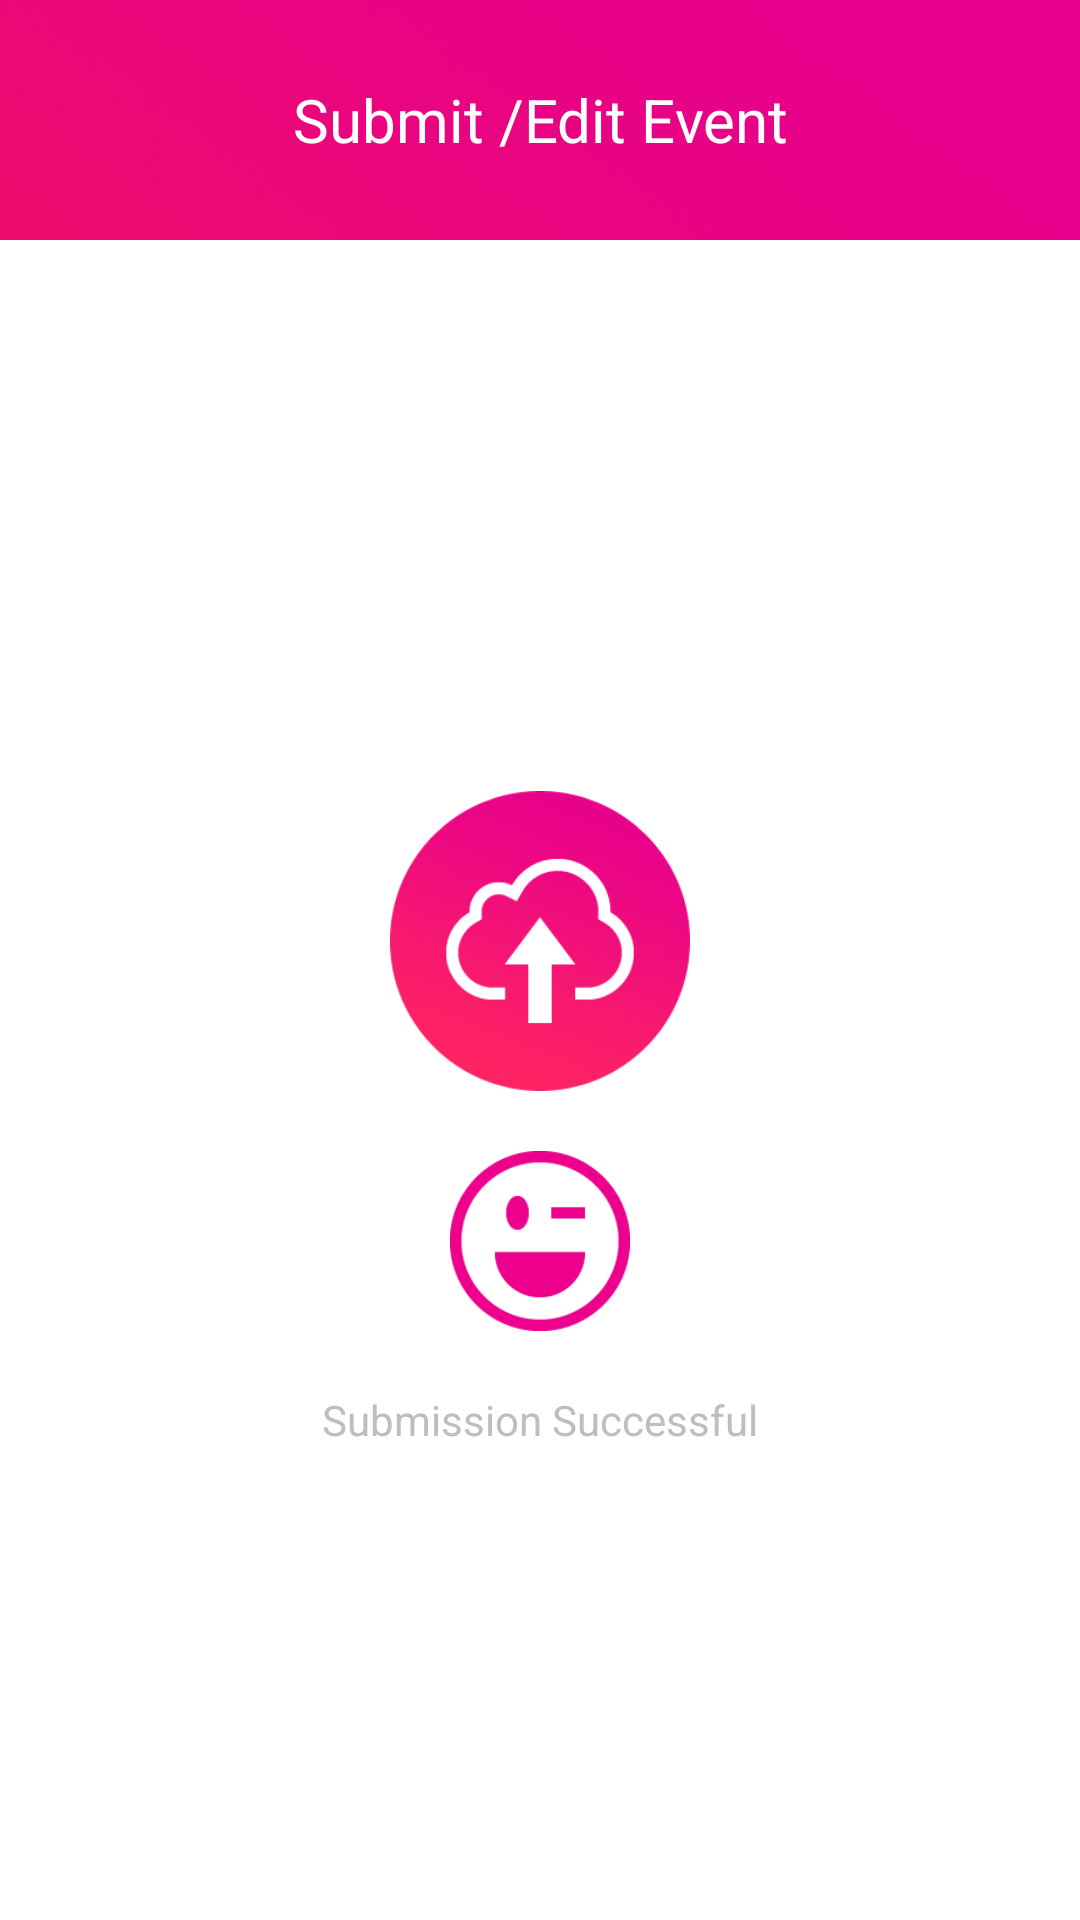

Where to tap for icons on this 1080 x 1920 app screen, as (x,y):
submit: (540,941)
submit success: (540,1241)
